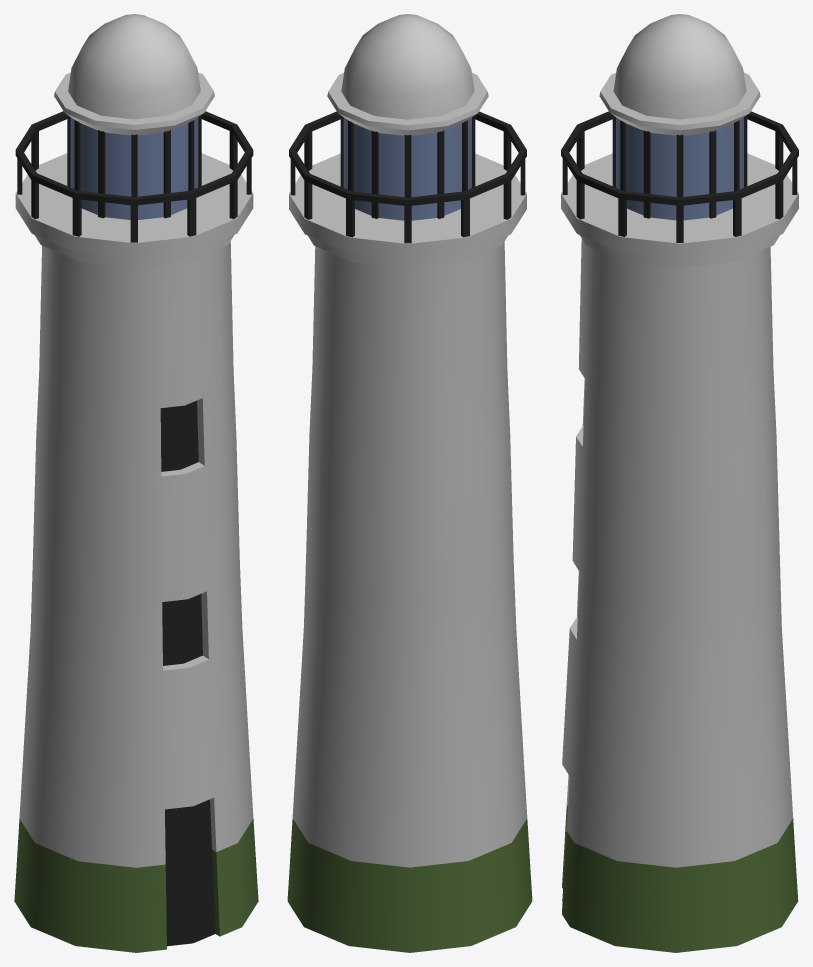
File: Lighthouse_01.fbx
3 renders of one model, left to right at view 1: azimuth 30°, elevation 25°; view 2: azimuth 150°, elevation 25°; view 3: azimuth 270°, elevation 25°, orthographic.
Visible parts, largest first — view 1: Lighthouse_01; view 2: Lighthouse_01; view 3: Lighthouse_01.
Part boxes in pixels (x1,y1,x2,y2): Lighthouse_01: (14, 14, 258, 952); Lighthouse_01: (287, 14, 532, 952); Lighthouse_01: (561, 14, 798, 952).
Size of the model in its own units: 5.51 by 21.98 by 5.36.
